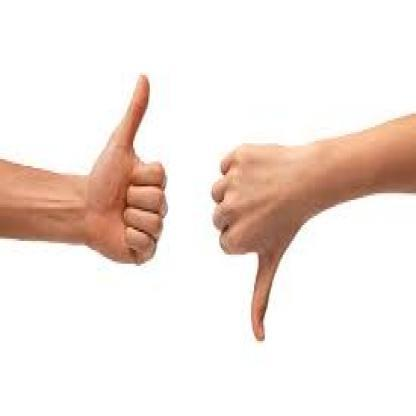thumb_down: (208, 132, 293, 344)
thumb_up: (86, 66, 170, 270)
